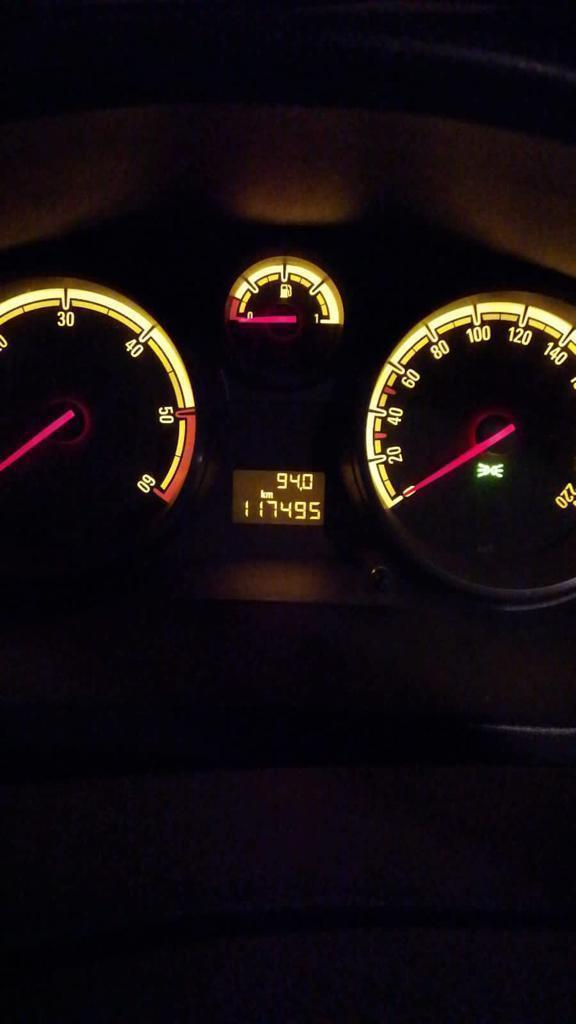,: (299, 487, 302, 491)
0: (301, 473, 313, 489)
1: (258, 500, 263, 518), (244, 500, 249, 518)
4: (279, 500, 292, 518), (289, 473, 300, 488)
5: (308, 501, 321, 520)
7: (266, 500, 277, 518)
9: (294, 501, 306, 519), (276, 472, 287, 489)
X: (265, 491, 273, 498), (260, 489, 266, 498)
odometer: (230, 467, 326, 527)
